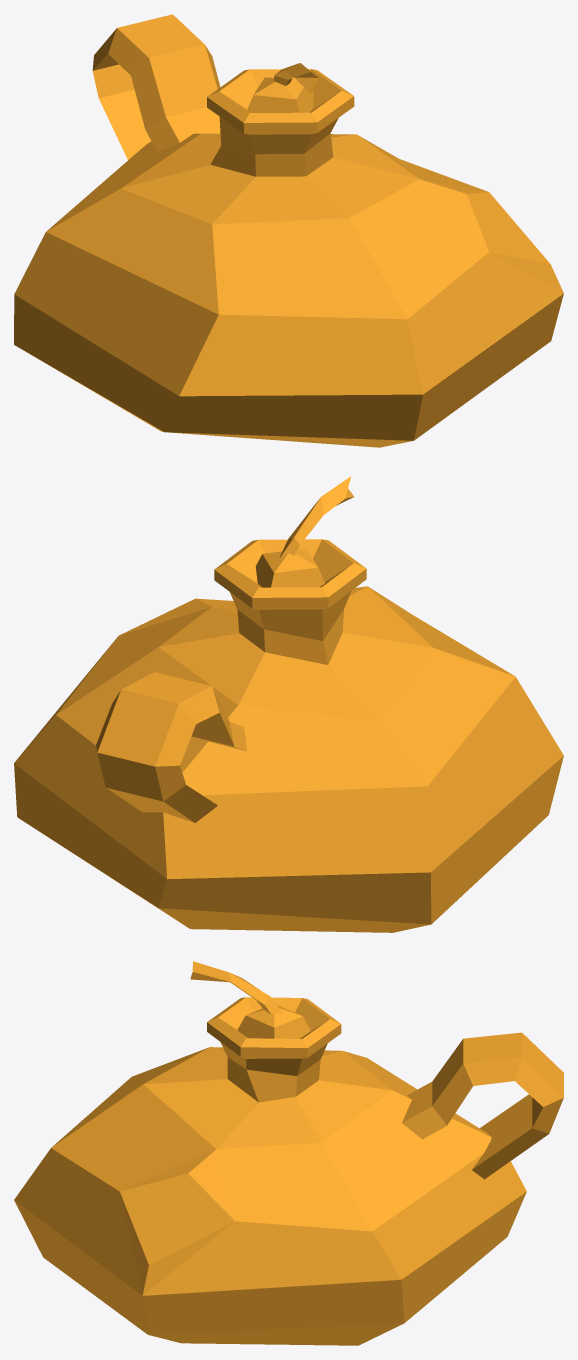
The model's file is SM_Lamp_Oil_A_Fantasy.fbx.
The picture shows the model from 3 angles, top to bottom: view 1: azimuth 30°, elevation 25°; view 2: azimuth 150°, elevation 25°; view 3: azimuth 270°, elevation 25°; orthographic projection. The views are drawn at different scales.
Parts seen in each view (by area): view 1: lamp-oil-a-fantasy; view 2: lamp-oil-a-fantasy; view 3: lamp-oil-a-fantasy.
Boxes of the visible parts, left/top/right/bottom form: lamp-oil-a-fantasy: left=14, top=14, right=563, bottom=447; lamp-oil-a-fantasy: left=14, top=476, right=563, bottom=932; lamp-oil-a-fantasy: left=14, top=961, right=563, bottom=1345.
Size of the model in its own units: 0.1775 by 0.141 by 0.2243.
